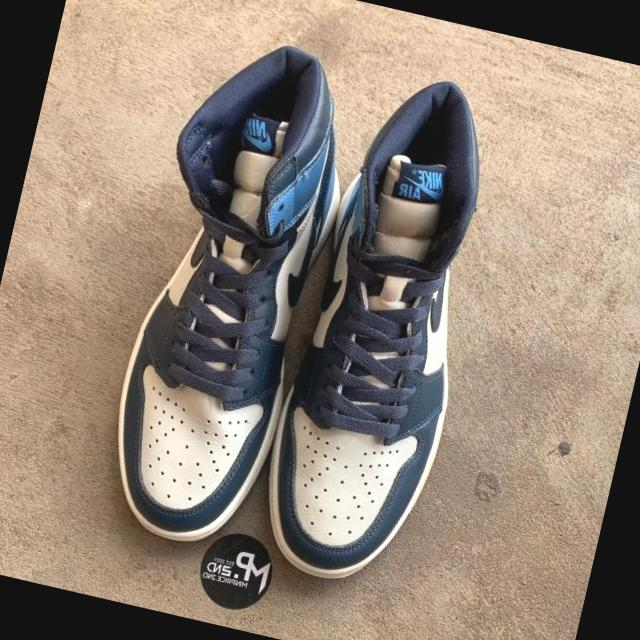nike_original_jordan: (80, 26, 362, 568), (247, 62, 520, 599)
